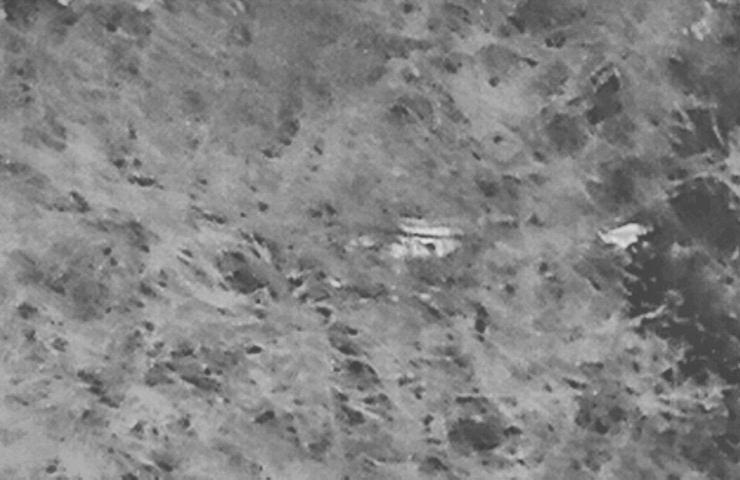landmines: (379, 216, 469, 294)
